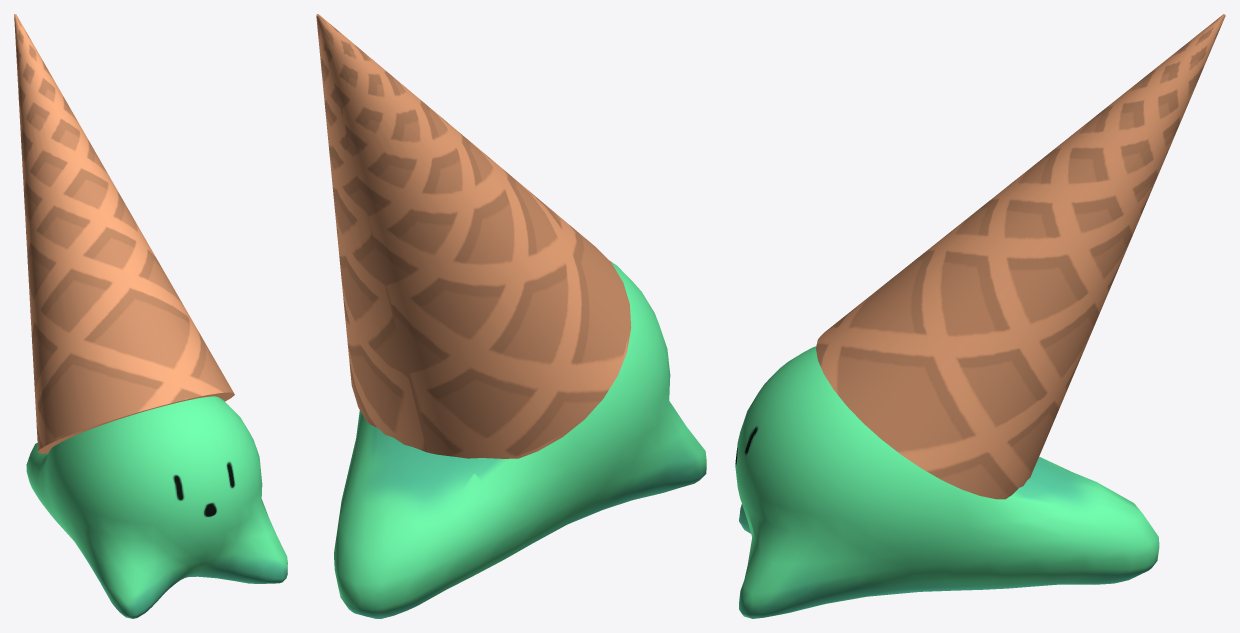
Rendered from slocone1.glb.
3 views of the same model, side by side, from view 1: azimuth 30°, elevation 25°; view 2: azimuth 150°, elevation 25°; view 3: azimuth 270°, elevation 25° (orthographic). The views are drawn at different scales.
Visible parts, largest first — view 1: Cone, Sphere; view 2: Cone, Sphere; view 3: Cone, Sphere.
Boxes of the visible parts, x1,y1,x2,y2 form: Cone: [14, 14, 234, 453]; Sphere: [26, 396, 287, 618]; Cone: [316, 14, 631, 458]; Sphere: [334, 260, 706, 618]; Cone: [816, 14, 1225, 499]; Sphere: [735, 346, 1159, 618].
Size of the model in its own units: 2 by 4.87 by 3.82.
Materials: 1 (1 with a texture image).
